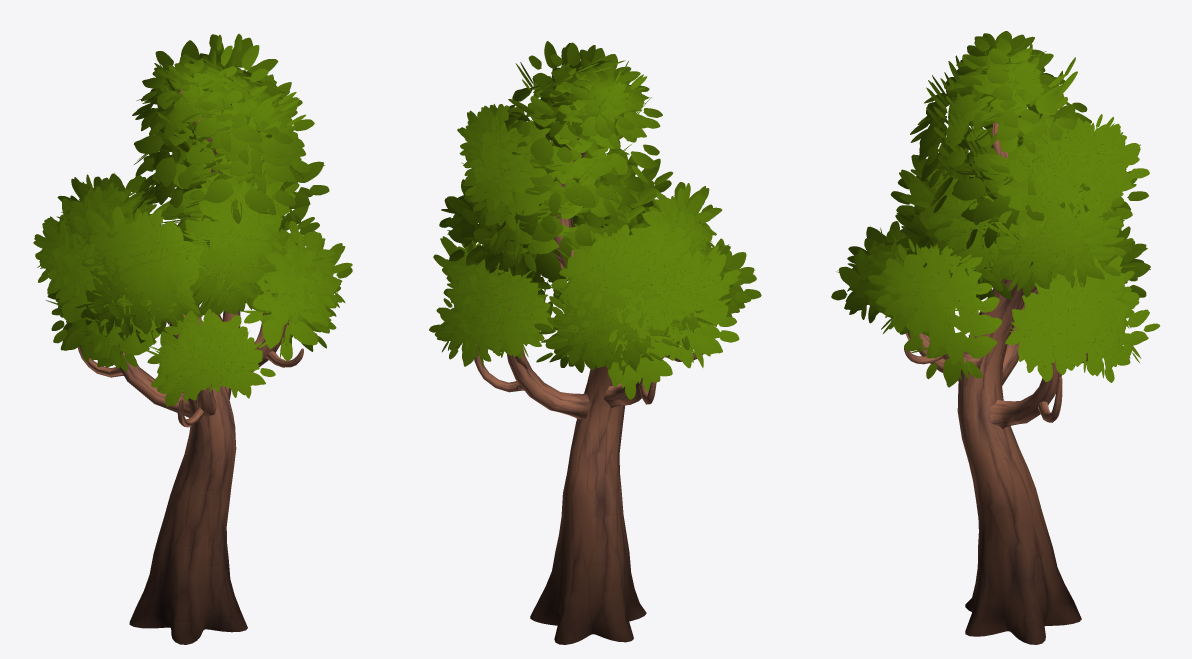
File: common_tree_2.glb
3 renders of one model, left to right at view 1: azimuth 30°, elevation 25°; view 2: azimuth 150°, elevation 25°; view 3: azimuth 270°, elevation 25°, orthographic. The views are drawn at different scales.
Parts seen in each view (by area): view 1: CommonTree_2; view 2: CommonTree_2; view 3: CommonTree_2.
Part boxes in pixels (<box>): CommonTree_2: <box>33,34,352,644</box>; CommonTree_2: <box>429,41,761,644</box>; CommonTree_2: <box>831,31,1159,644</box>.
Size of the model in its own units: 4.46 by 7.64 by 4.28.
2 materials, 2 textured.
